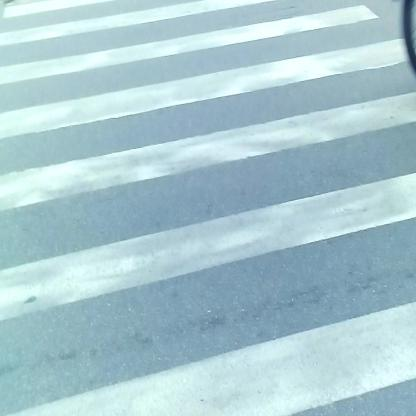crosswalk: (4, 5, 416, 396)
